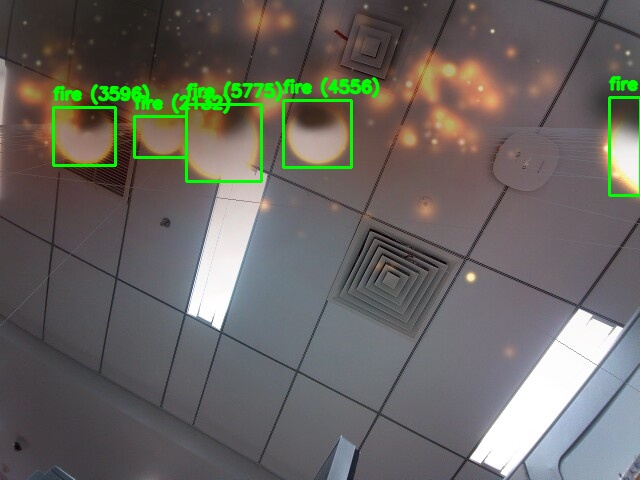fire: (186, 104, 261, 181), (283, 100, 351, 167), (53, 107, 115, 165), (609, 97, 640, 195), (134, 116, 186, 157)
